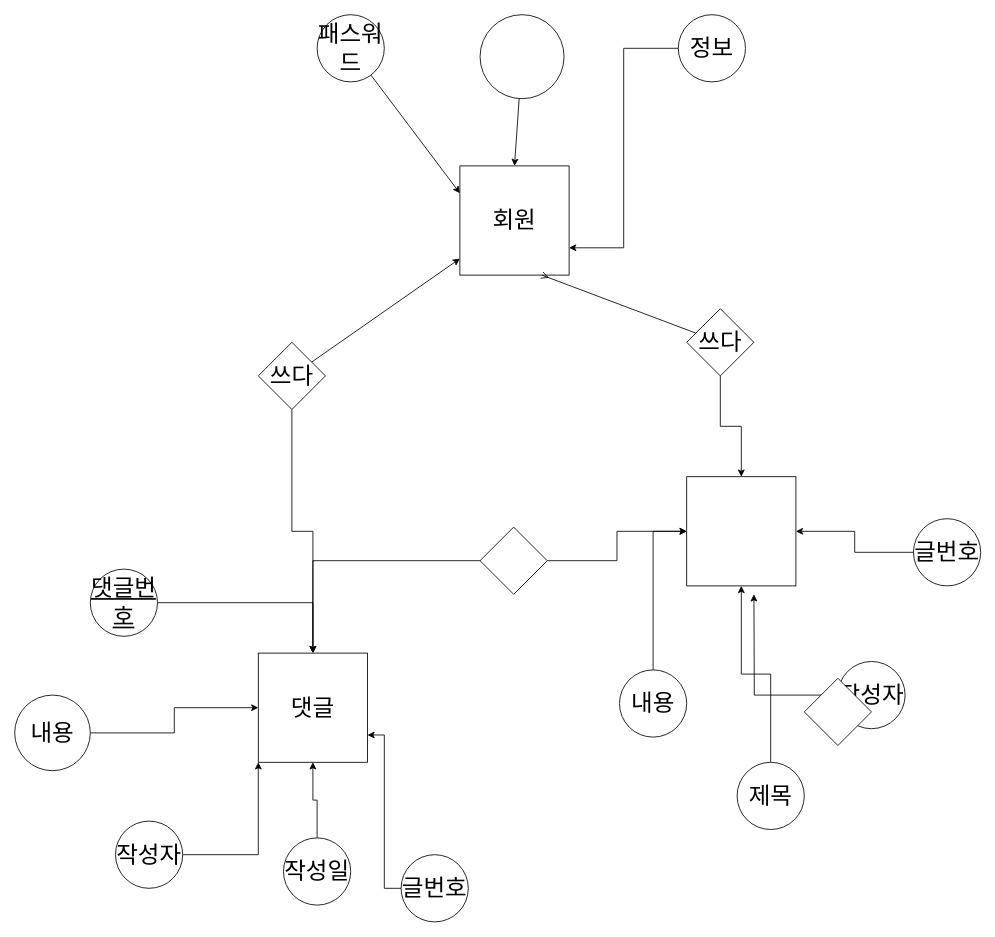
This 995x937 diagram has some shape labels left out. The shapes that lost their labels are listed below. From the top down, each one's centre as x and y in pixels, then its label:
At pixel 521 56: "아이디".
At pixel 741 531: "게시글".
At pixel 513 560: "포함하다".
